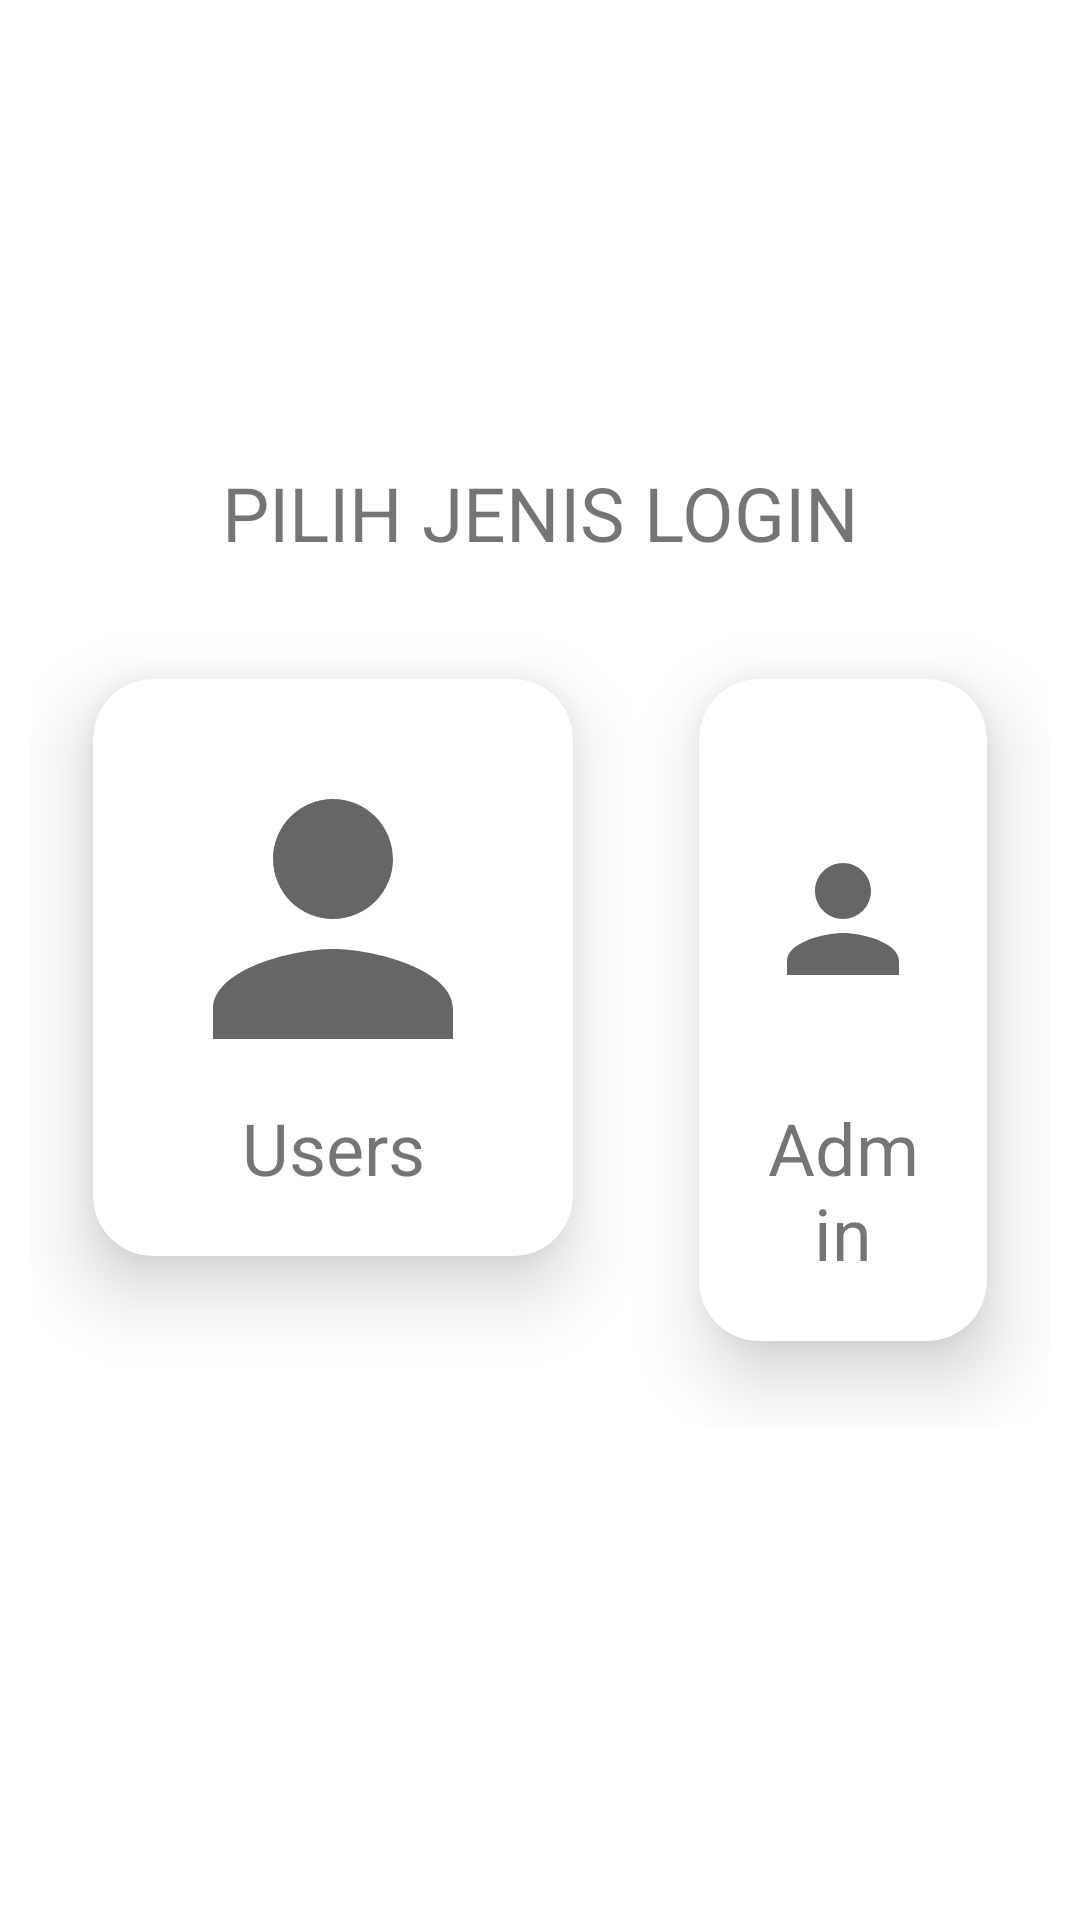

Where icons sit on this 1080×1920 app screen, as bbox=(x1, y1, x2, y2):
person: bbox=(213, 799, 453, 1039), bbox=(787, 863, 899, 975)
